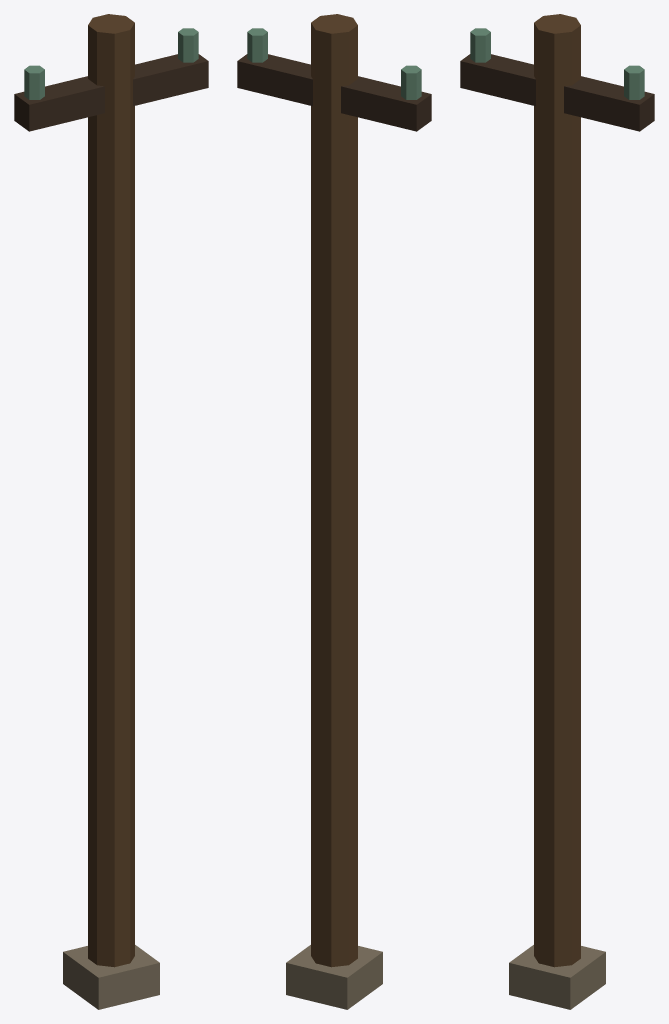
Rendered from FestoonPole.glb.
The picture shows the model from 3 angles, left to right: view 1: azimuth 30°, elevation 25°; view 2: azimuth 150°, elevation 25°; view 3: azimuth 330°, elevation 25°; orthographic projection.
Visible parts, largest first — view 1: FestoonPole; view 2: FestoonPole; view 3: FestoonPole.
Part boxes in pixels (left/top/right/bottom): FestoonPole: left=14, top=14, right=208, bottom=1009; FestoonPole: left=237, top=14, right=431, bottom=1009; FestoonPole: left=460, top=14, right=654, bottom=1009.
Size of the model in its own units: 0.7 by 3.6 by 0.24.
